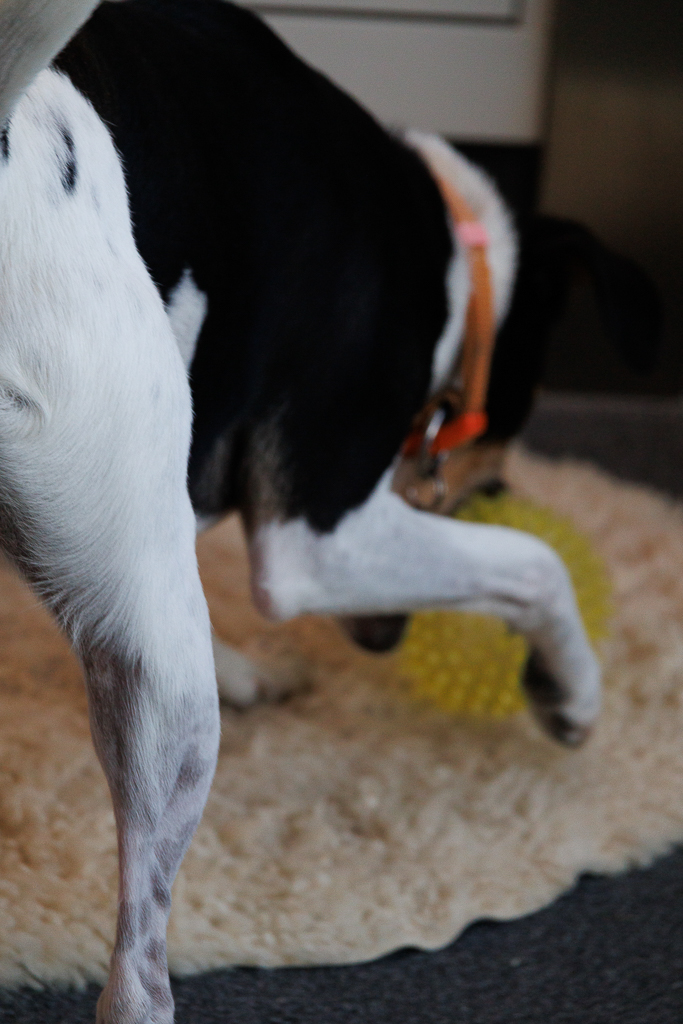Dog: (0, 0, 624, 1024)
